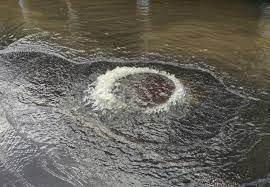drainage overflow-repair-: (0, 35, 257, 176)
